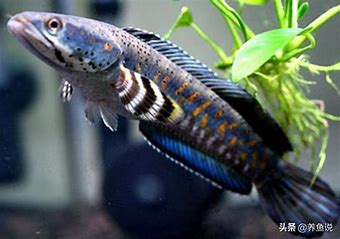Fish: (6, 5, 340, 234)
